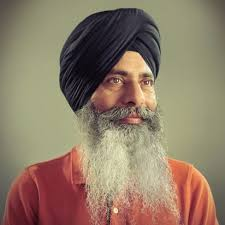helmet: (60, 7, 166, 159)
